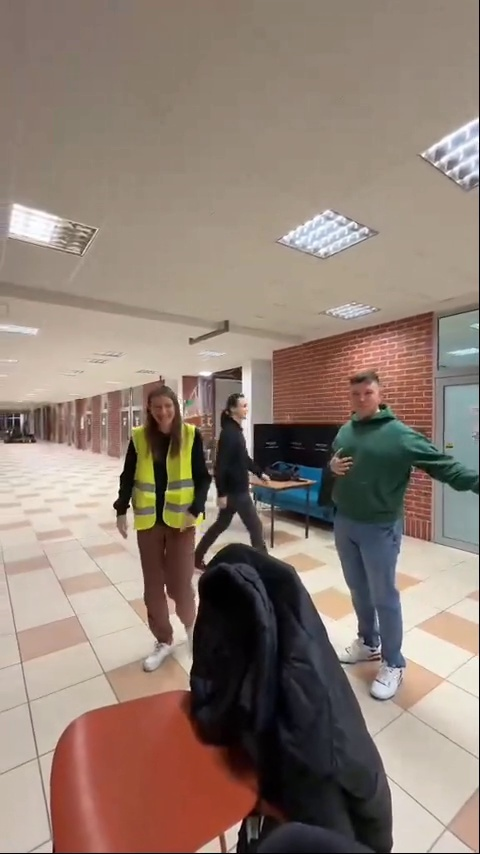no vest: (330, 361, 465, 700), (212, 389, 271, 545)
vest: (118, 389, 205, 673)
